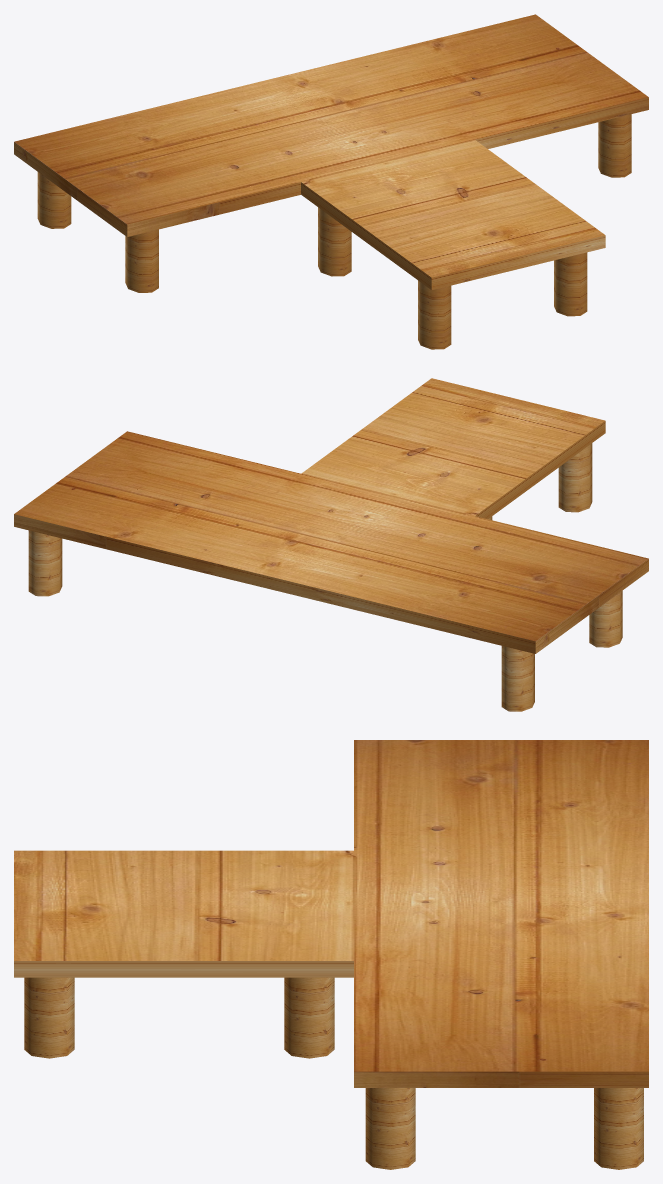
The model's file is Muelle CP.FBX.
3 views of the same model, one above another, from view 1: azimuth 30°, elevation 25°; view 2: azimuth 150°, elevation 25°; view 3: azimuth 270°, elevation 25° (orthographic). The views are drawn at different scales.
Parts seen in each view (by area): view 1: Box058, Cylinder087, Cylinder086, Cylinder084, Cylinder083, Cylinder088, Cylinder082; view 2: Box058, Cylinder081, Cylinder082, Cylinder087, Cylinder083; view 3: Box058, Cylinder084, Cylinder086, Cylinder085, Cylinder081.
Part boxes in pixels (<box>): Box058: <box>14,14,648,290</box>; Cylinder087: <box>418,280,451,349</box>; Cylinder086: <box>554,252,587,316</box>; Cylinder084: <box>598,114,631,177</box>; Cylinder083: <box>125,229,158,292</box>; Cylinder088: <box>318,207,351,276</box>; Cylinder082: <box>37,172,71,228</box>; Box058: <box>14,378,648,653</box>; Cylinder081: <box>28,530,62,596</box>; Cylinder082: <box>501,646,534,711</box>; Cylinder087: <box>558,443,592,512</box>; Cylinder083: <box>589,591,622,647</box>; Box058: <box>14,740,648,1087</box>; Cylinder084: <box>365,1088,415,1169</box>; Cylinder086: <box>24,977,74,1058</box>; Cylinder085: <box>284,977,334,1058</box>; Cylinder081: <box>594,1088,643,1169</box>.
Bounding box in the file's own units: 339 × 48.74 × 275.
